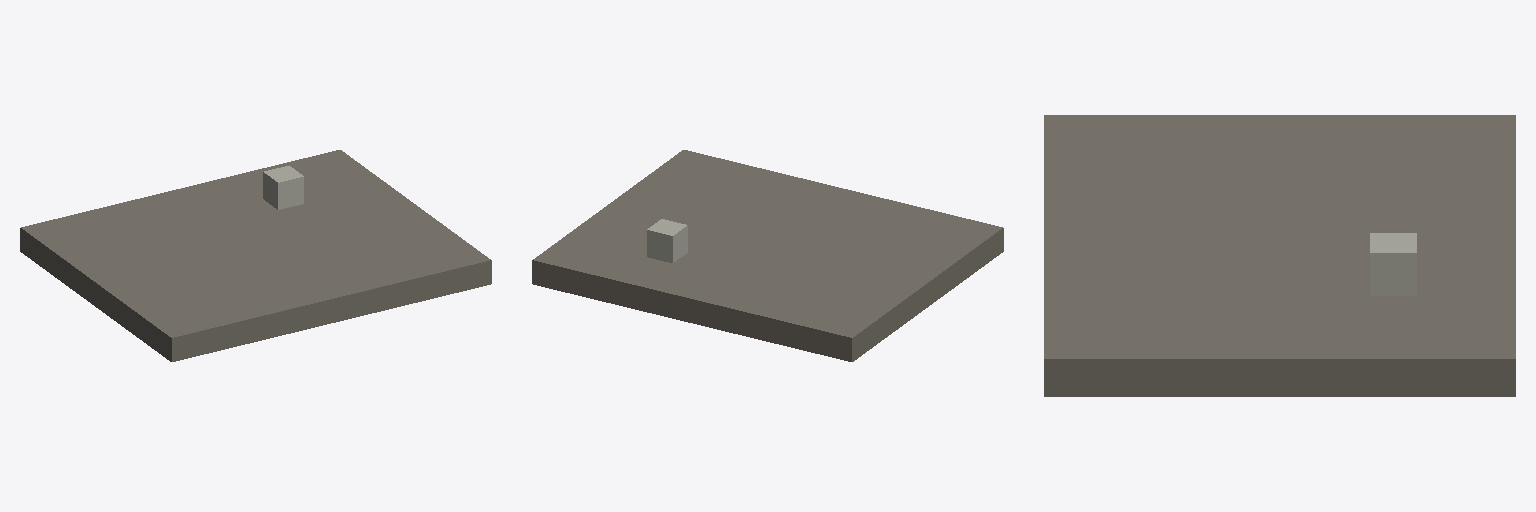
URDF robot description (parttoolgen_hammer_single_cube):
<?xml version="1.0"?>
<robot name="parttoolgen_hammer_single_cube">
  <link name="table_with_target_cube">
    <visual>
      <material name="wood">
        <color rgba="0.52 0.50 0.46 1.0"/>
      </material>
      <origin xyz="0 0 0"/>
      <geometry>
        <box size="0.55 0.45 0.04"/>
      </geometry>
    </visual>
    <collision>
      <origin xyz="0 0 0"/>
      <geometry>
        <box size="0.55 0.45 0.04"/>
      </geometry>
    </collision>

    <visual>
      <material name="target_cube">
        <color rgba="0.72 0.72 0.68 1.0"/>
      </material>
      <origin xyz="0.11032753981563487 0.10852204715305686 0.042499999999999996"/>
      <geometry>
        <box size="0.045 0.045 0.045"/>
      </geometry>
    </visual>
    <collision>
      <origin xyz="0.11032753981563487 0.10852204715305686 0.042499999999999996"/>
      <geometry>
        <box size="0.045 0.045 0.045"/>
      </geometry>
    </collision>

    <inertial>
      <mass value="500"/>
      <friction value="1.0"/>
      <inertia ixx="1000.0" ixy="0.0" ixz="0.0" iyy="1000.0" iyz="0.0" izz="1000.0"/>
    </inertial>
  </link>
</robot>

--- Facts derived from the render (not from the file) ---
Views: 3 orthographic renders of the robot side by side, from view 1: azimuth 30°, elevation 25°; view 2: azimuth 150°, elevation 25°; view 3: azimuth 270°, elevation 25°.
Robot: parttoolgen_hammer_single_cube — 1 links, 0 joints (none); root link table_with_target_cube; default pose: every joint at zero.
Visible links, largest first — view 1: table_with_target_cube; view 2: table_with_target_cube; view 3: table_with_target_cube.
Boxes of the visible links, x1,y1,x2,y2 form: table_with_target_cube: (20,150,491,361); table_with_target_cube: (532,150,1003,361); table_with_target_cube: (1044,115,1515,396).
Size in the robot's own frame: 0.55 by 0.45 by 0.085 metres.
Geometry: primitives only (box / cylinder / sphere), no mesh files.
